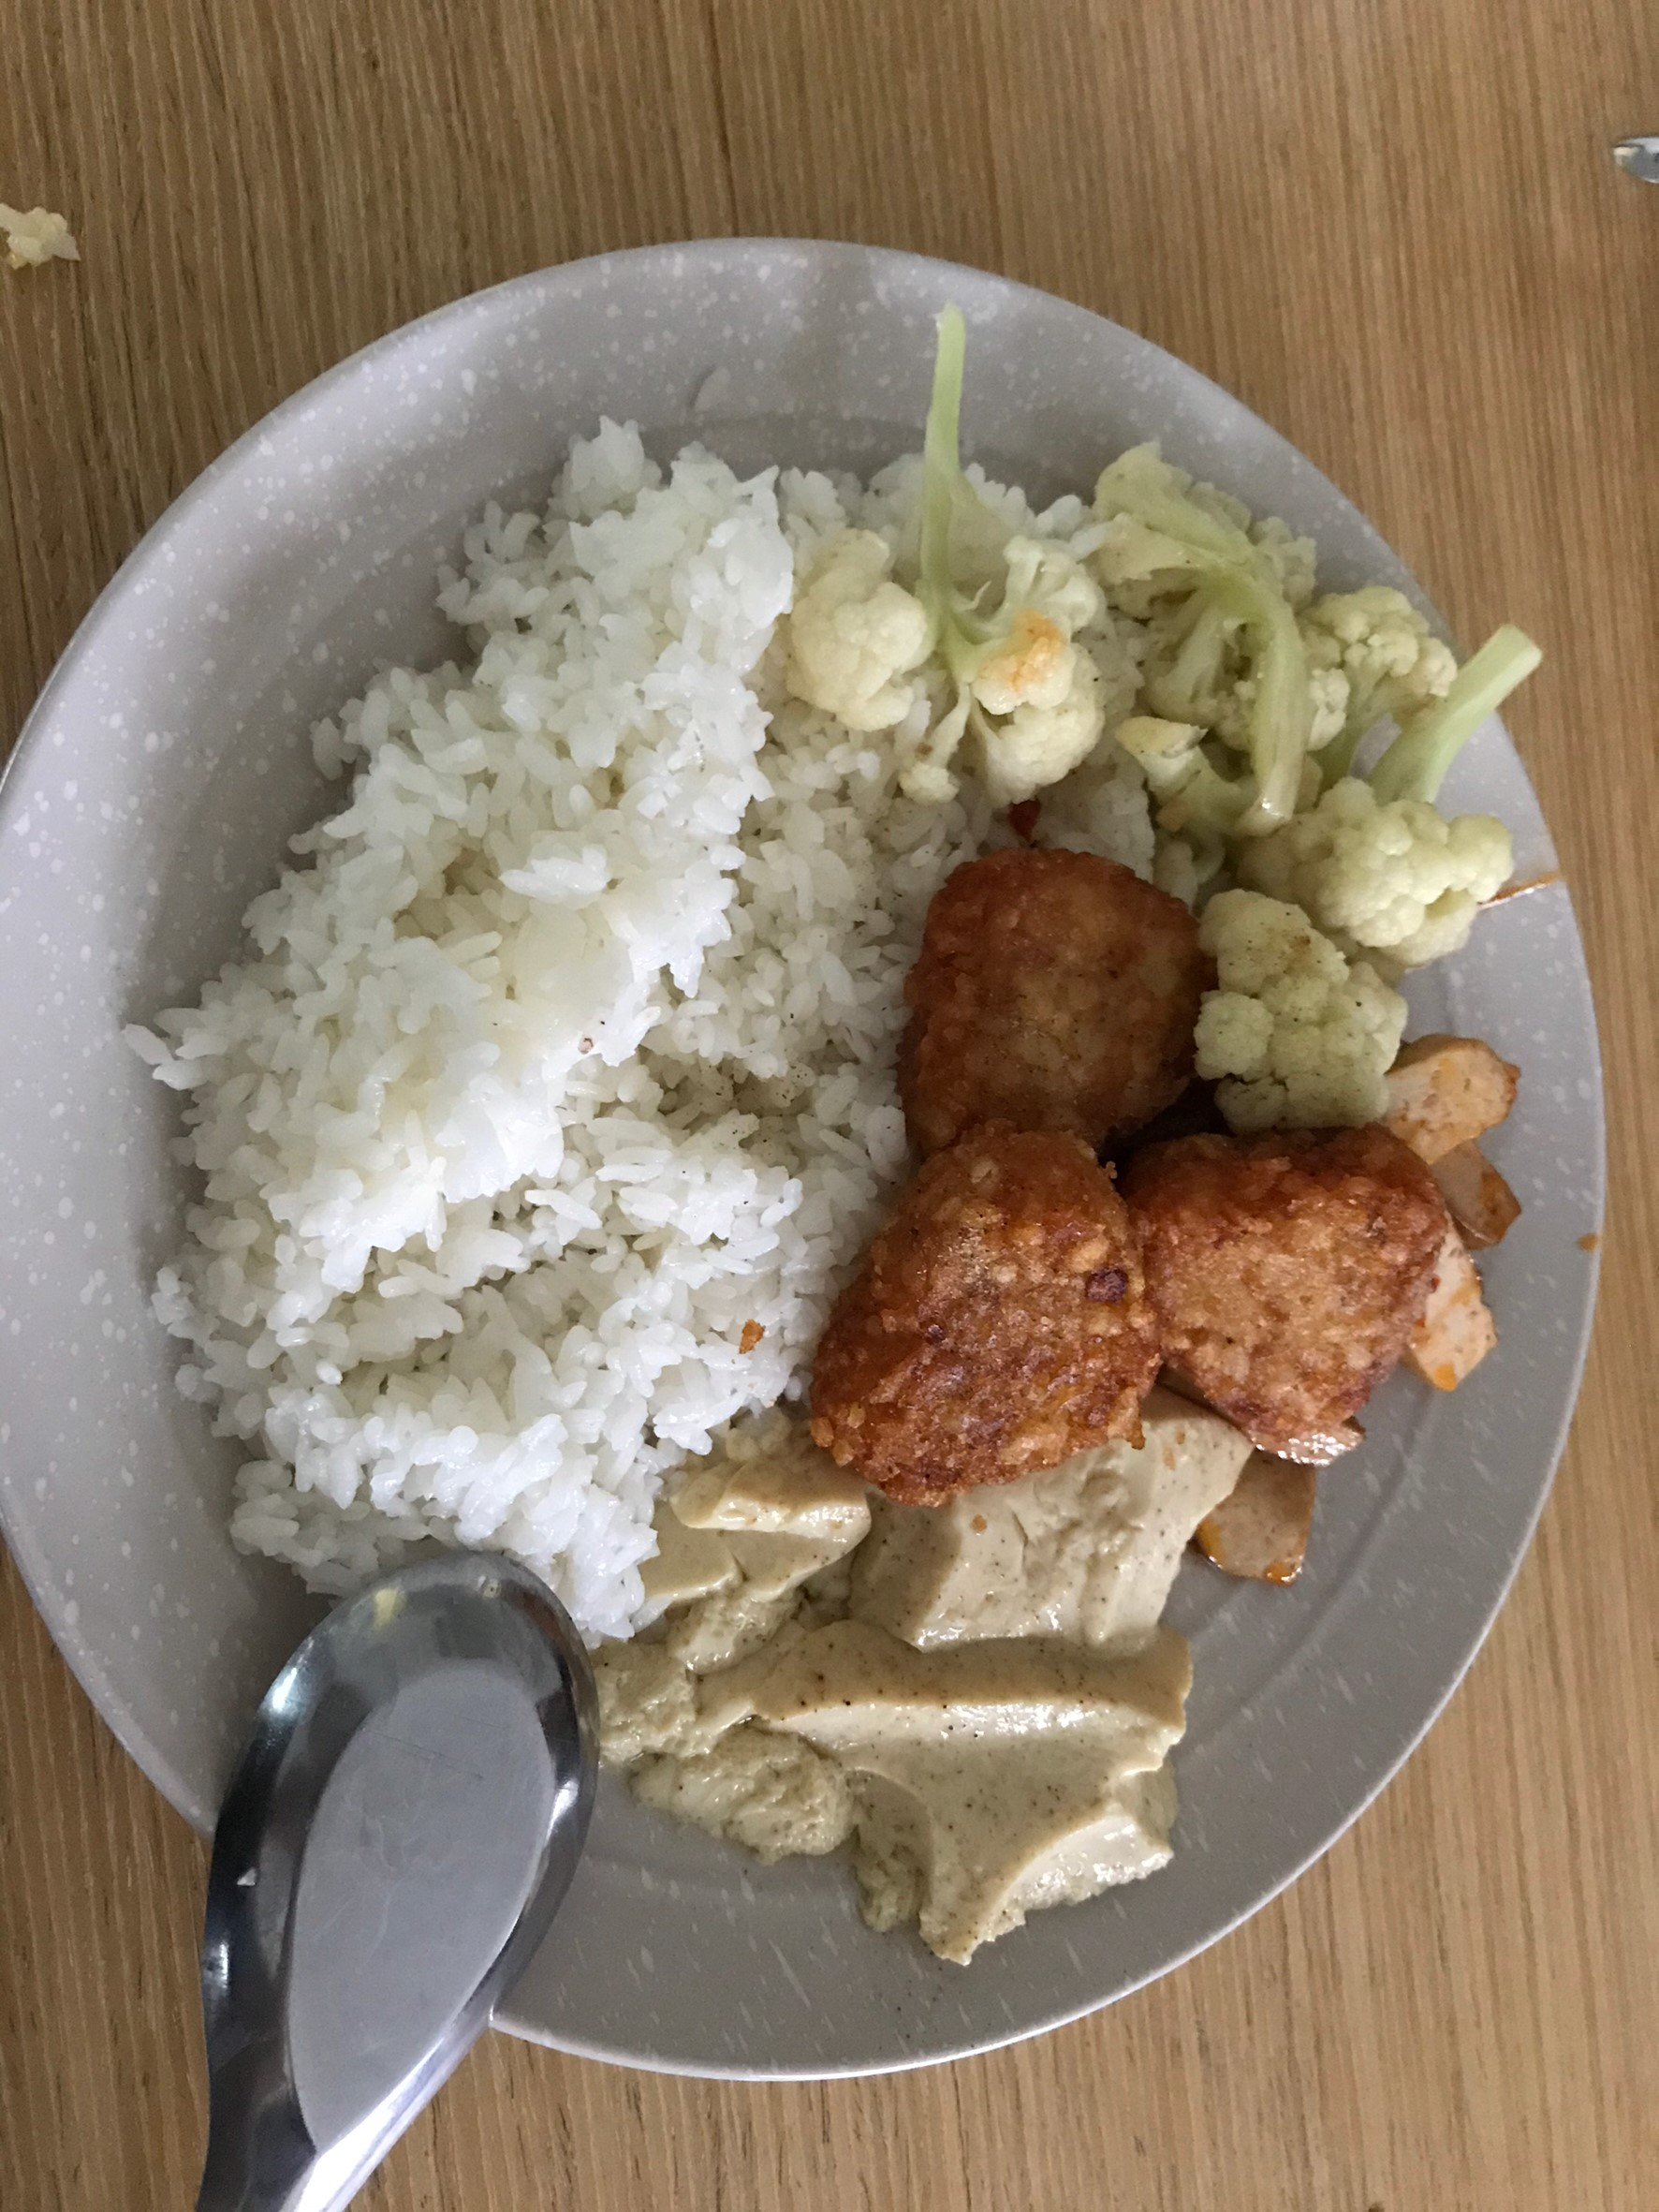rice: (118, 439, 946, 1628)
triangle_hash_brown: (809, 859, 1464, 1506)
